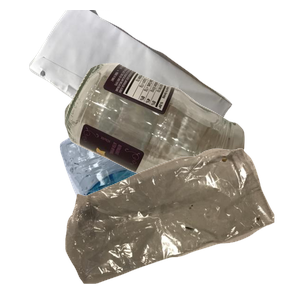glass: (62, 60, 300, 240)
paper: (27, 10, 252, 187)
plastic: (57, 120, 284, 300)
trash: (63, 145, 300, 300)
